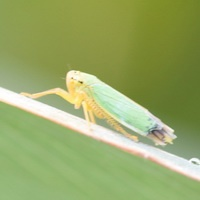insect: (21, 70, 176, 145)
